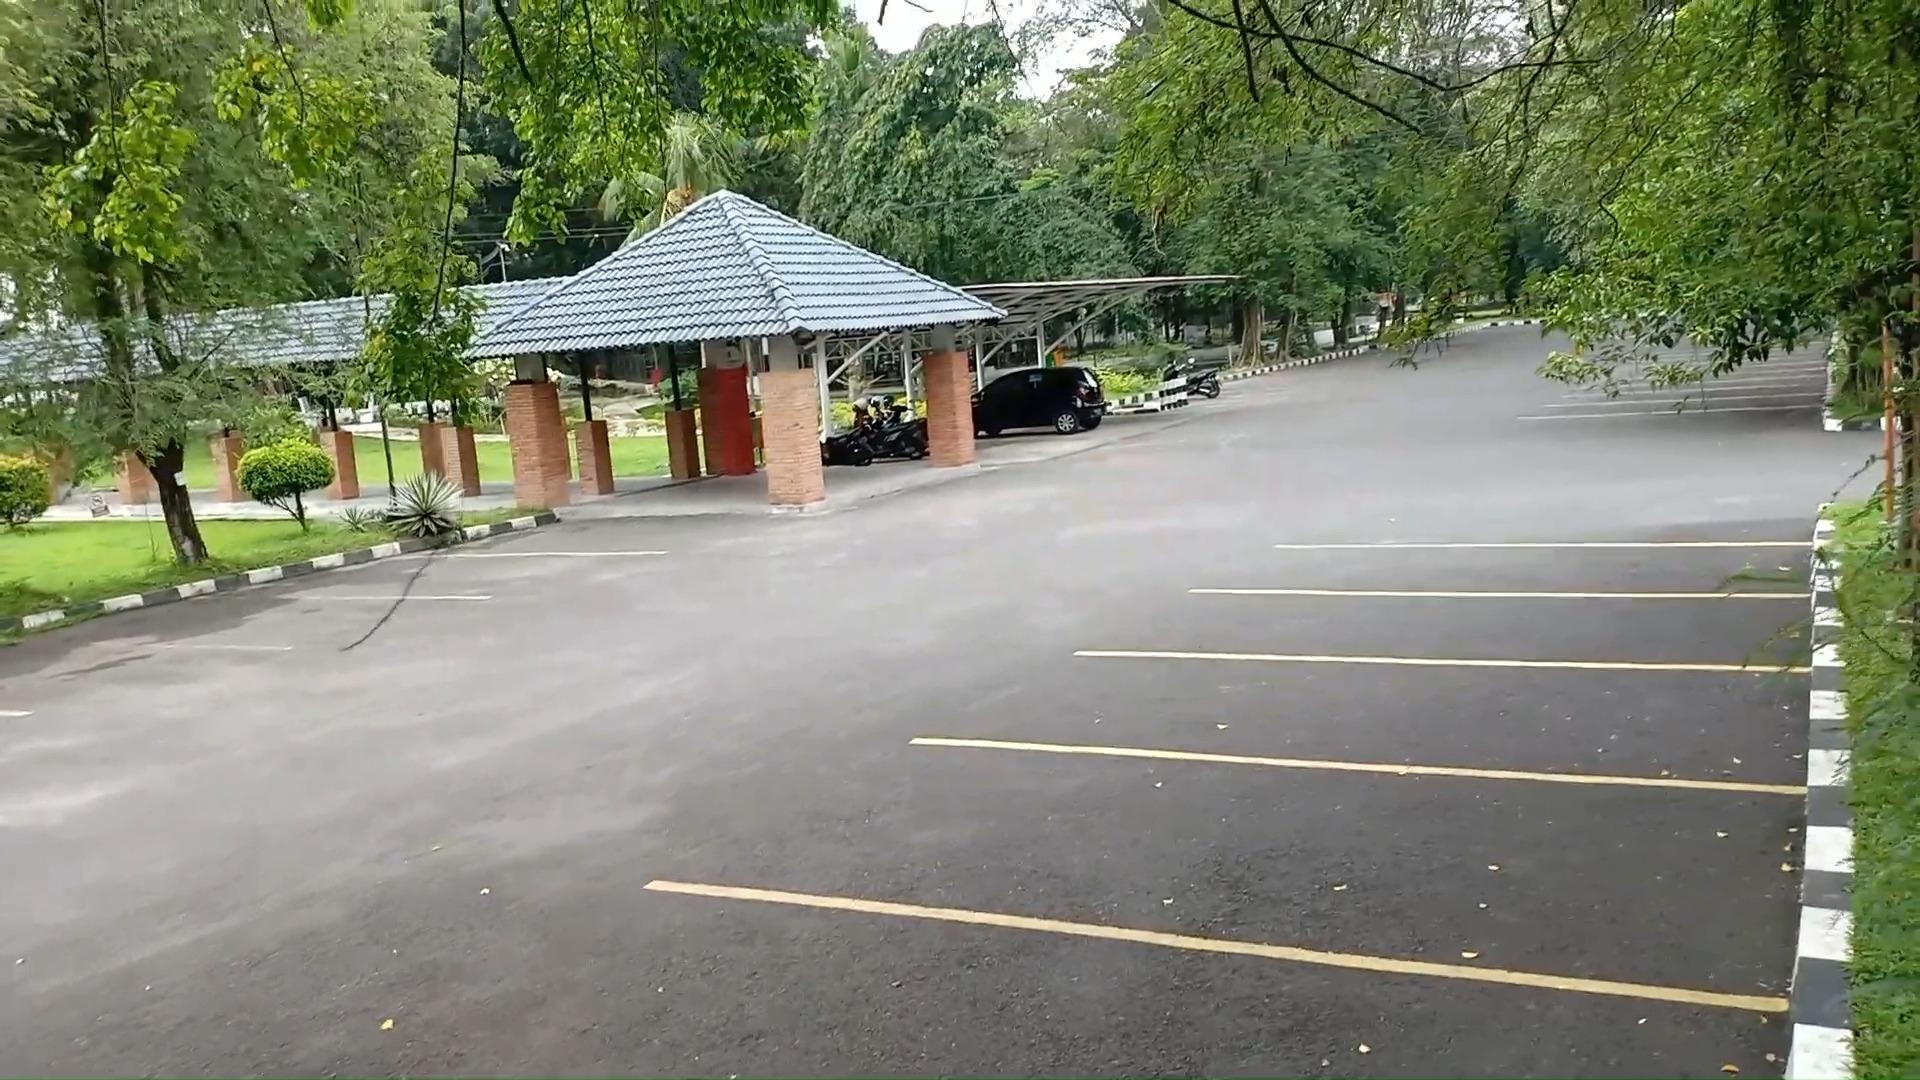empty: (1064, 767, 1795, 958), (1126, 654, 1806, 791), (1197, 592, 1810, 674), (1293, 541, 1812, 598), (320, 552, 578, 598)
